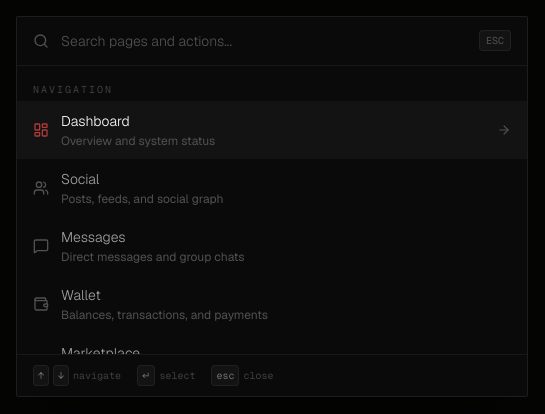
Test case: CommandPalette › shows no results message for unmatched queries
In the field with placeholder "Search pages and actions...": (264, 41) x1=61 y1=17 x2=467 y2=65, type "xyznonexistent"
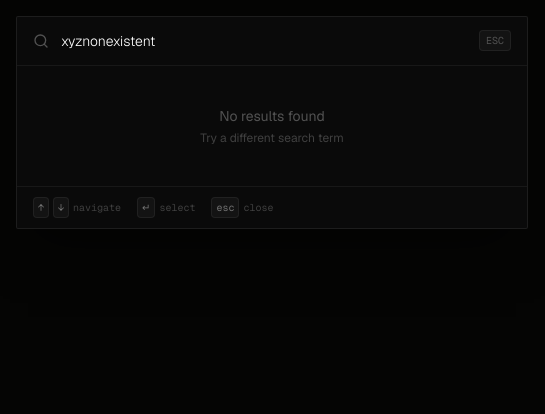
Check: the text "No results found" is shown, box x1=219 y1=107 x2=325 y2=125
